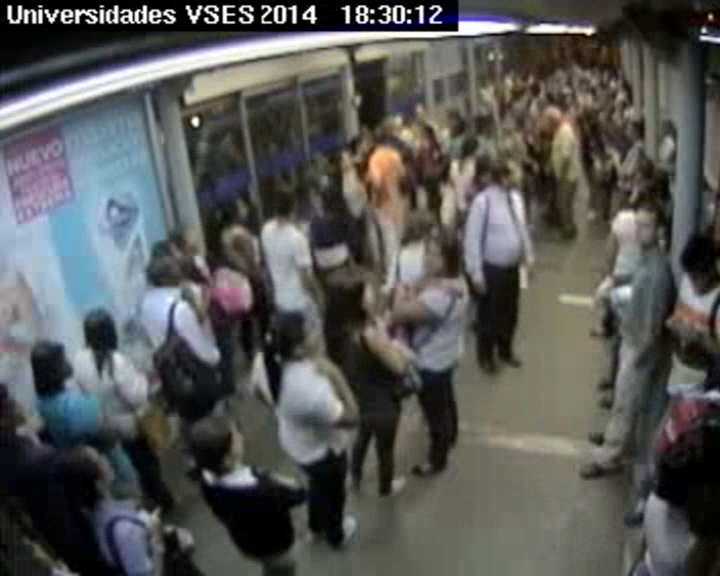person: (188, 415, 246, 473), (62, 445, 115, 498), (271, 311, 322, 360), (675, 237, 720, 289), (30, 340, 73, 382), (1, 389, 40, 433), (633, 203, 671, 245), (80, 307, 120, 346), (426, 237, 461, 279), (145, 260, 176, 290), (409, 210, 437, 239), (274, 191, 301, 220), (321, 193, 348, 221), (172, 229, 200, 255), (495, 161, 520, 189), (331, 150, 360, 173), (223, 199, 248, 224), (154, 240, 180, 264), (475, 116, 497, 137), (397, 176, 417, 196), (625, 122, 647, 140), (652, 170, 670, 189), (350, 136, 369, 154), (543, 109, 561, 127), (295, 163, 313, 180), (448, 116, 464, 134), (476, 156, 492, 173), (381, 116, 398, 132), (638, 159, 653, 177), (425, 172, 440, 190), (401, 149, 417, 165), (462, 139, 477, 155), (392, 114, 407, 130), (373, 128, 388, 144), (437, 162, 453, 177), (559, 88, 574, 103), (511, 86, 525, 101), (579, 80, 592, 95), (602, 70, 615, 84), (661, 121, 674, 135), (414, 105, 427, 119), (544, 92, 556, 106), (600, 132, 612, 146), (621, 86, 632, 100), (529, 84, 541, 96), (555, 66, 567, 78), (515, 117, 527, 129), (421, 126, 432, 139), (607, 78, 618, 89), (505, 68, 516, 78), (584, 59, 594, 70), (479, 79, 489, 88), (528, 71, 537, 81)
